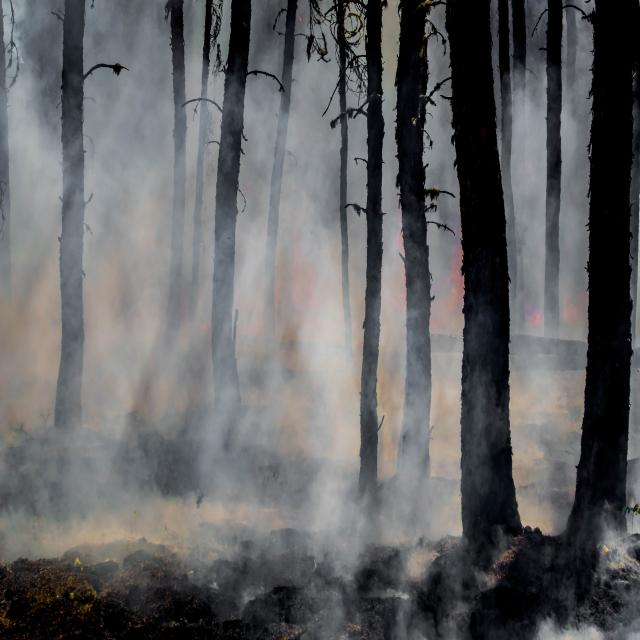Forest Fire: (81, 104, 640, 640)
